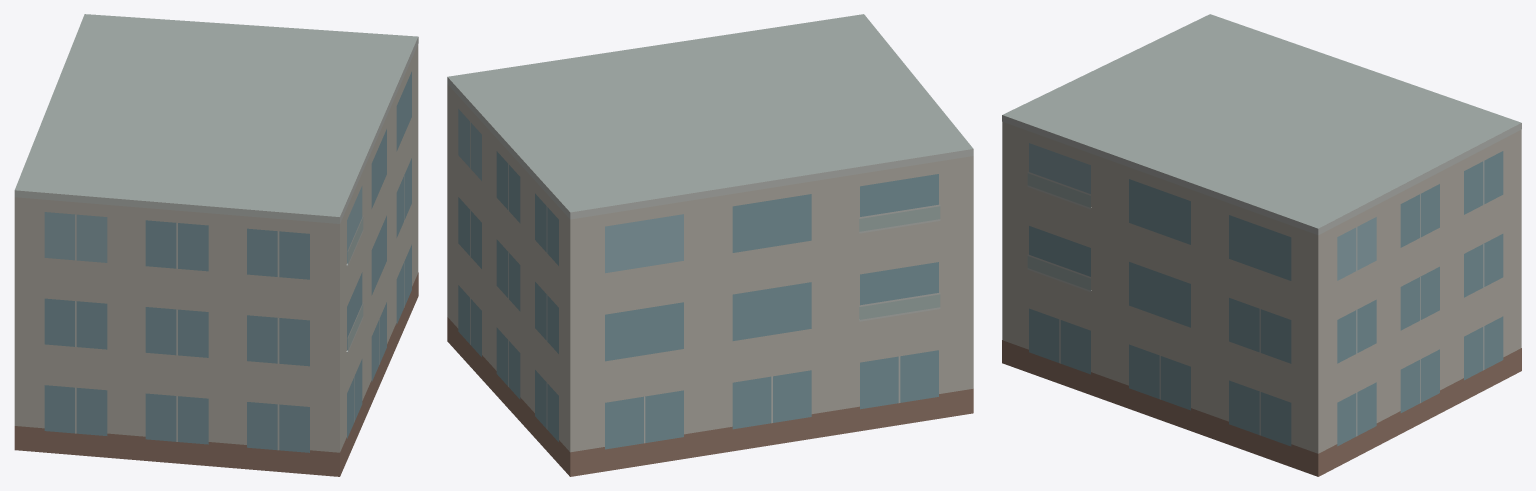
File: survey-upis-32708683.glb
The picture shows the model from 3 angles, left to right: view 1: azimuth 30°, elevation 25°; view 2: azimuth 150°, elevation 25°; view 3: azimuth 270°, elevation 25°; orthographic projection. The views are drawn at different scales.
Visible parts, largest first — view 1: survey-upis-32708683.tmp; view 2: survey-upis-32708683.tmp; view 3: survey-upis-32708683.tmp.
Part boxes in pixels (x1=…): survey-upis-32708683.tmp: x1=14, y1=14, x2=418, y2=476; survey-upis-32708683.tmp: x1=447, y1=14, x2=973, y2=476; survey-upis-32708683.tmp: x1=1002, y1=14, x2=1521, y2=476.
Size of the model in its own units: 16.98 by 9.15 by 17.37.
